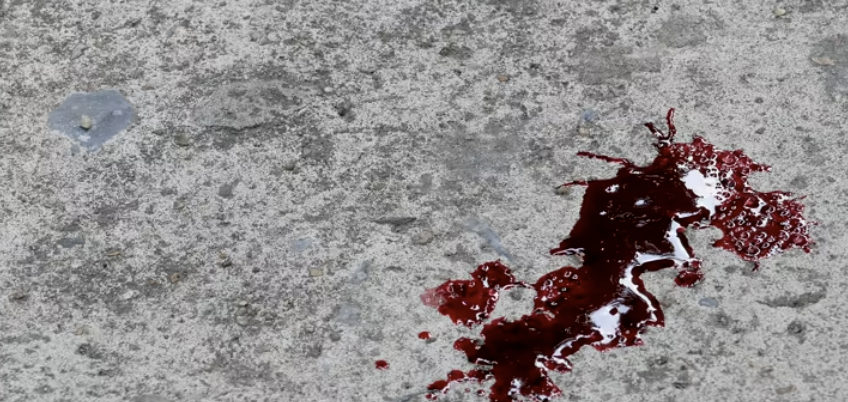blood_32.png: (363, 100, 846, 402)
